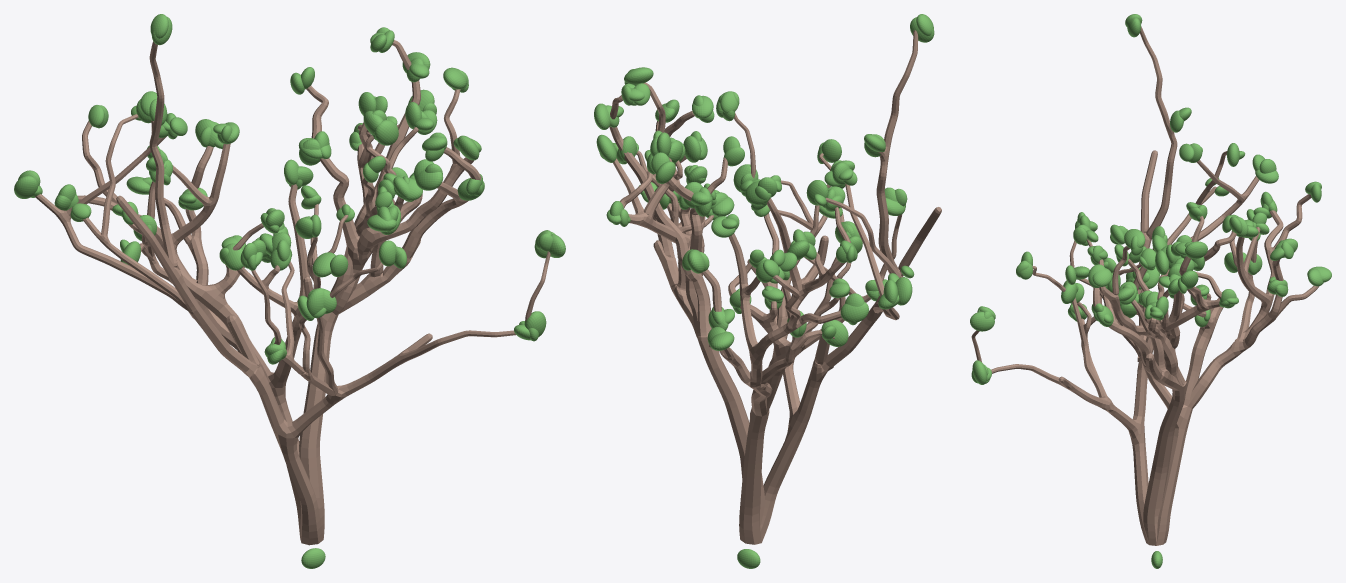
3 renders of one model, left to right at view 1: azimuth 30°, elevation 25°; view 2: azimuth 150°, elevation 25°; view 3: azimuth 270°, elevation 25°, orthographic. The views are drawn at different scales.
Parts seen in each view (by area): view 1: Arbusto; view 2: Arbusto, Sphere.133; view 3: Arbusto.
Boxes of the visible parts, x1,y1,x2,y2 form: Arbusto: [35, 40, 550, 545]; Arbusto: [609, 30, 941, 544]; Sphere.133: [840, 302, 868, 322]; Arbusto: [971, 27, 1319, 545].
Size of the model in its own units: 2.42 by 3.74 by 2.51.
